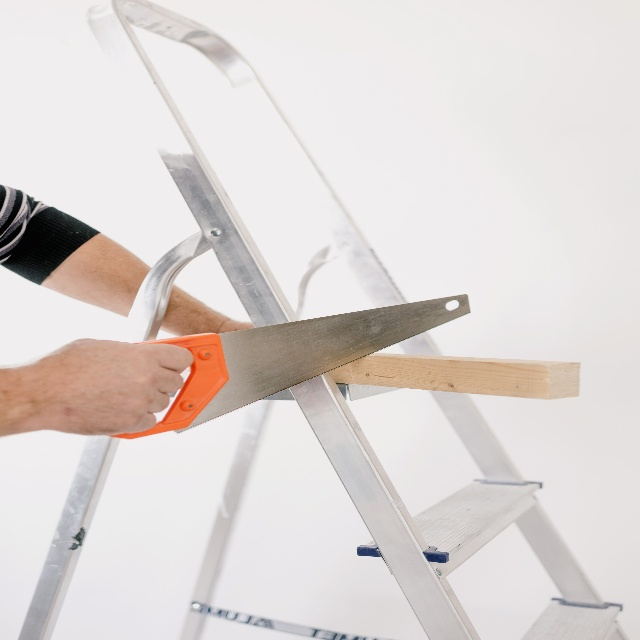Sin_guantes: (39, 338, 193, 435)
